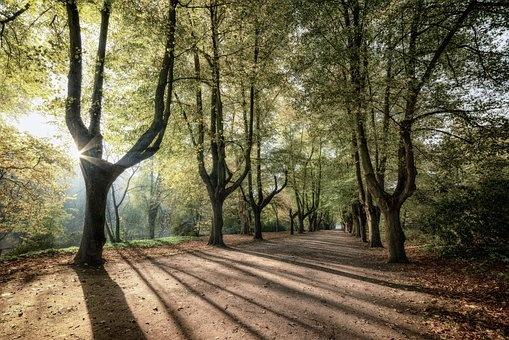road: (0, 230, 508, 339)
